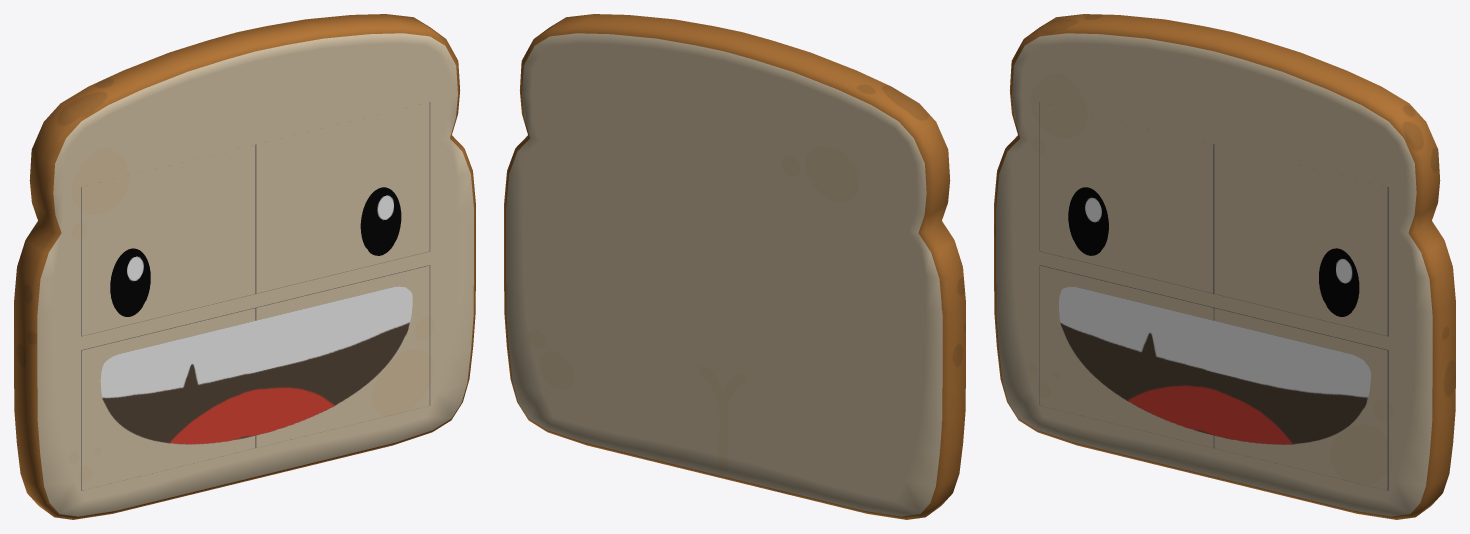
The model's file is M_character_bread.FBX.
3 views of the same model, side by side, from view 1: azimuth 30°, elevation 25°; view 2: azimuth 150°, elevation 25°; view 3: azimuth 330°, elevation 25° (orthographic).
Parts seen in each view (by area): view 1: bread_01; view 2: bread_01; view 3: bread_01.
Part boxes in pixels (left/top/right/bottom): bread_01: left=14, top=14, right=475, bottom=519; bread_01: left=504, top=14, right=965, bottom=519; bread_01: left=994, top=14, right=1455, bottom=519.
Bounding box in the file's own units: 286 × 267 × 24.04.
